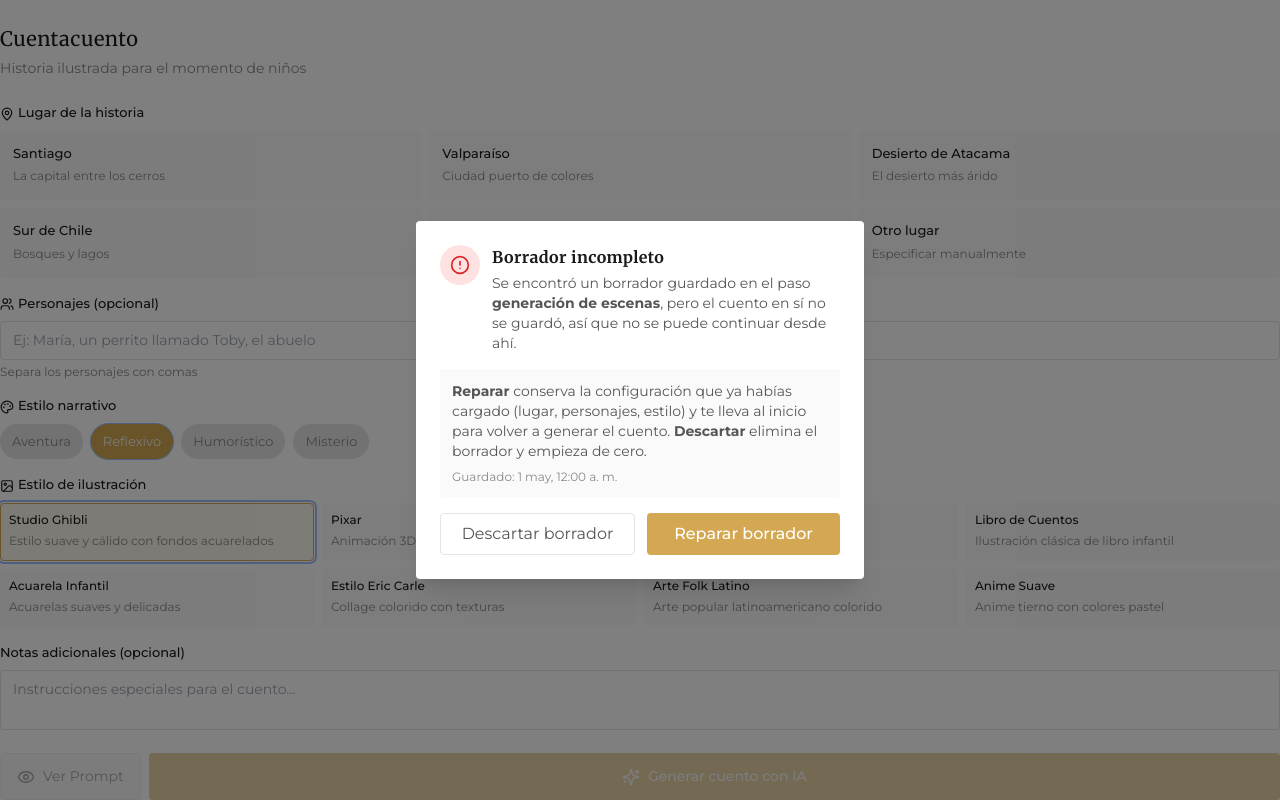
Test: T-A6.1 — borrador roto: prompt de reparación visible › descartar elimina la fila del borrador
Click the button "Descartar borrador".
click(538, 534)  # box [440,513,635,555]
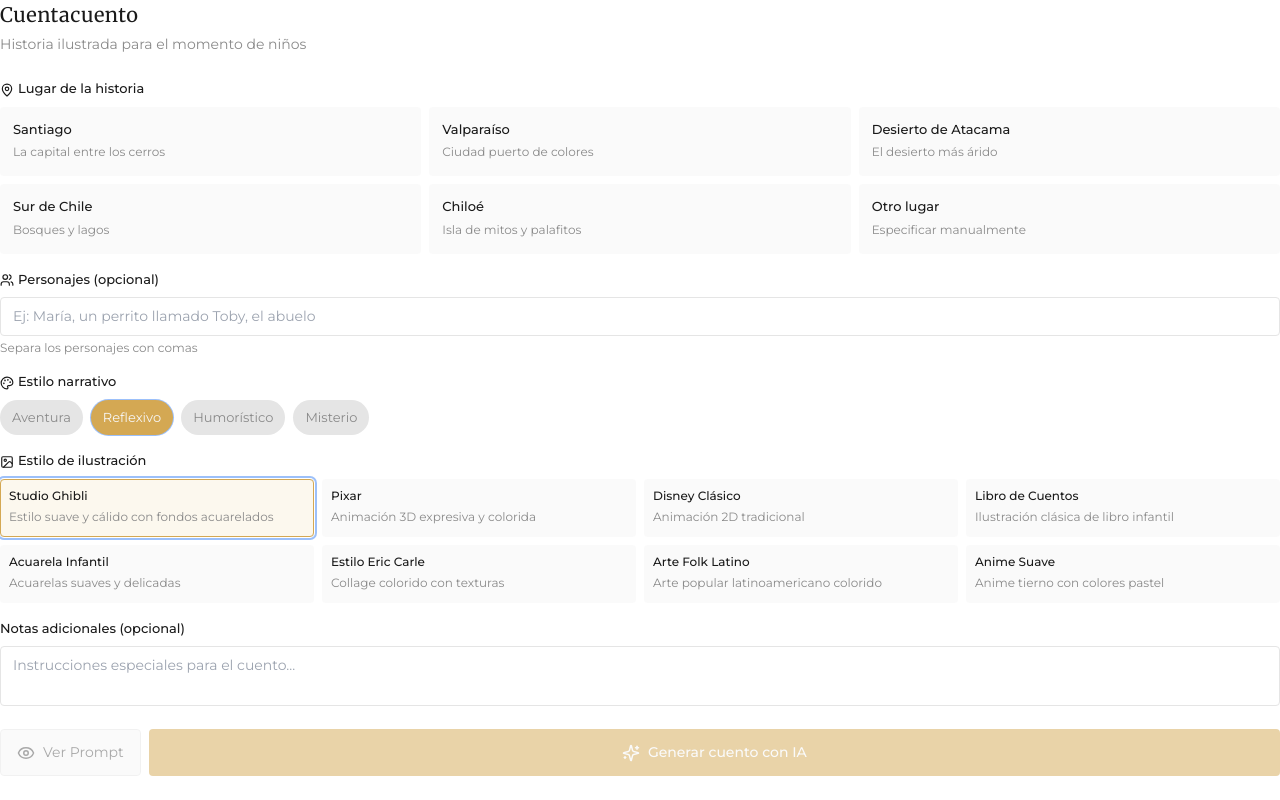
Expected: the heading "Borrador incompleto" is gone
